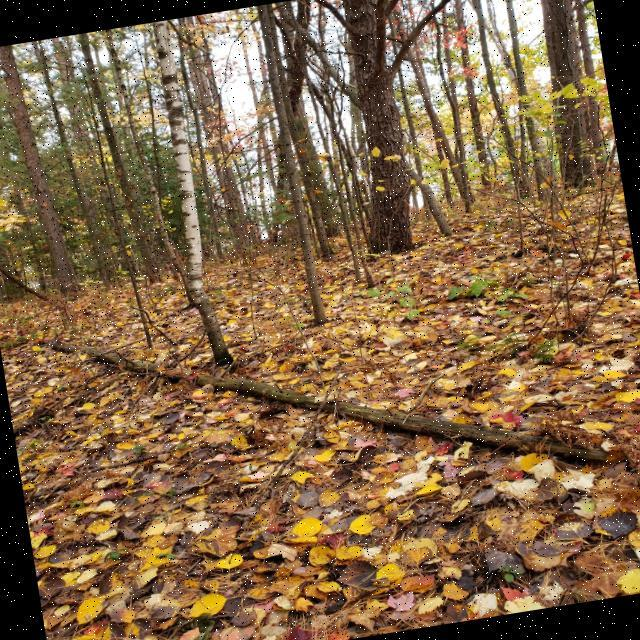fallen_object: (0, 232, 636, 569)
